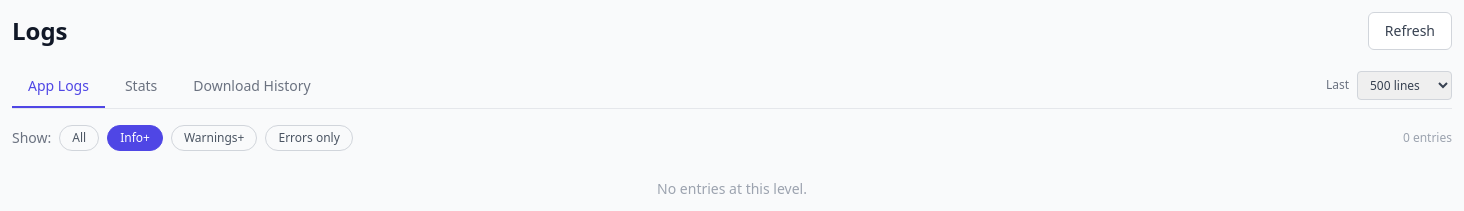
Test: LogsPage › says the range is empty rather than showing a headerless table
Click the button "Download History": (252,87) [177,66,327,108]
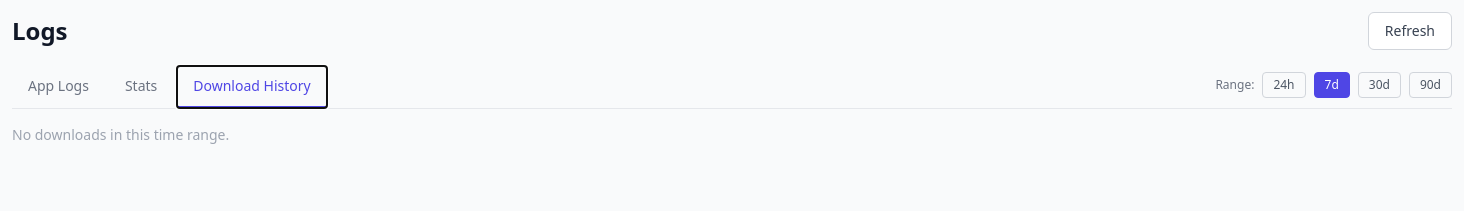
Expected: the text "No downloads in this time range." is shown, [12,125,229,144]
